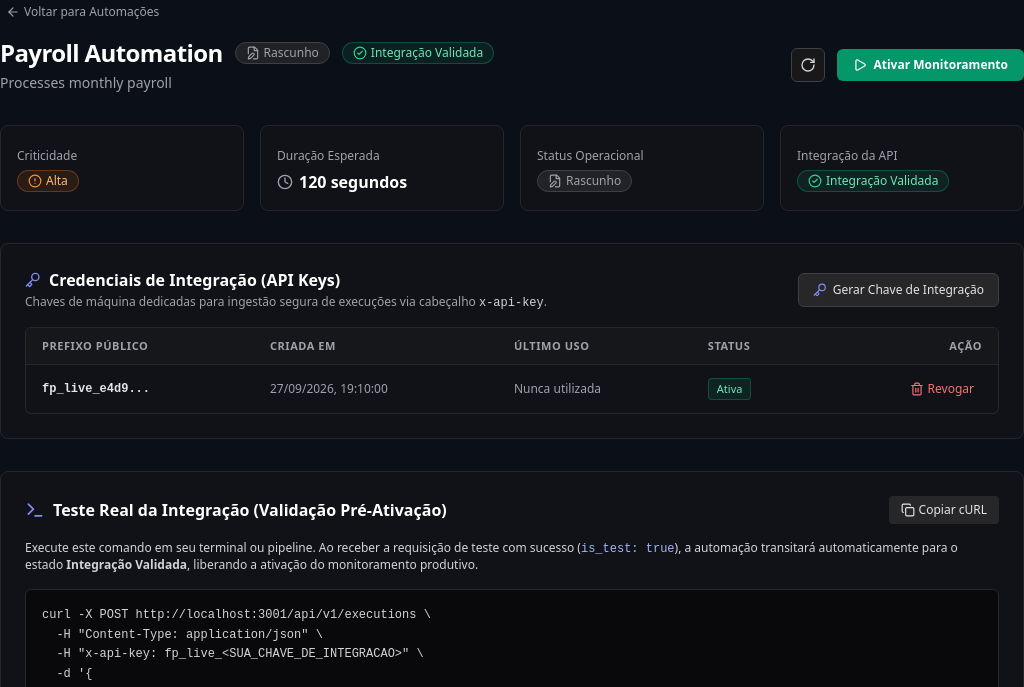
AutomationDetailView Component › should render activation button ENABLED when integration_status is VALIDATED and activate on click
Click the button with test id "activate-automation-button".
click(931, 65)  # box [837, 49, 1023, 81]
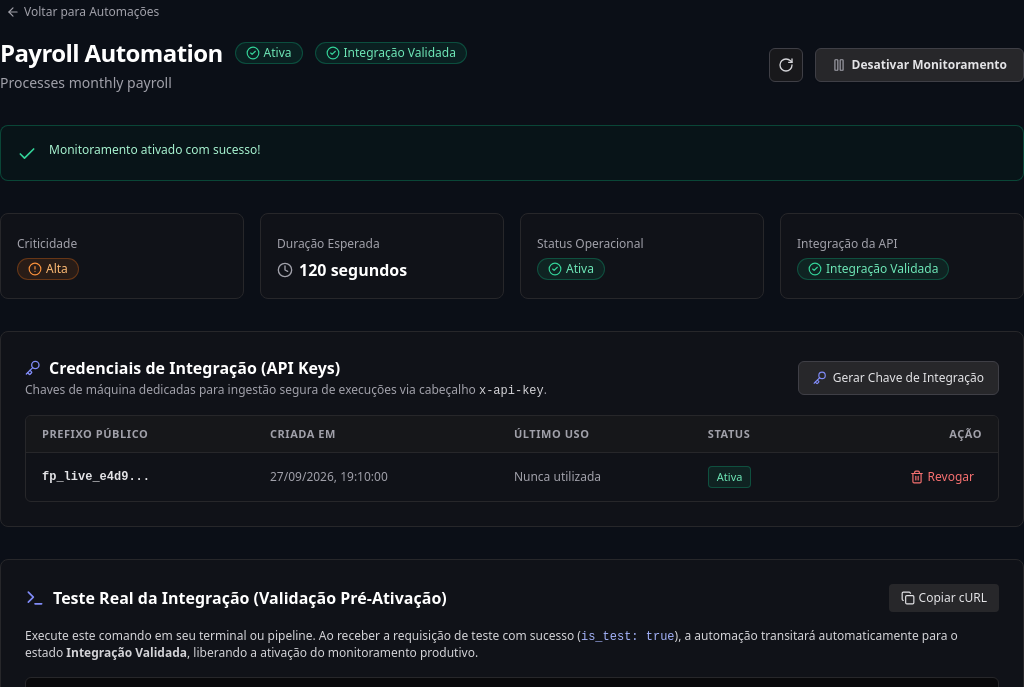
Expected: the message "Monitoramento ativado com sucesso!" is shown, [0, 125, 1023, 181]
Expected: the text "Monitoramento ativado com sucesso!" is shown, [49, 142, 261, 158]
